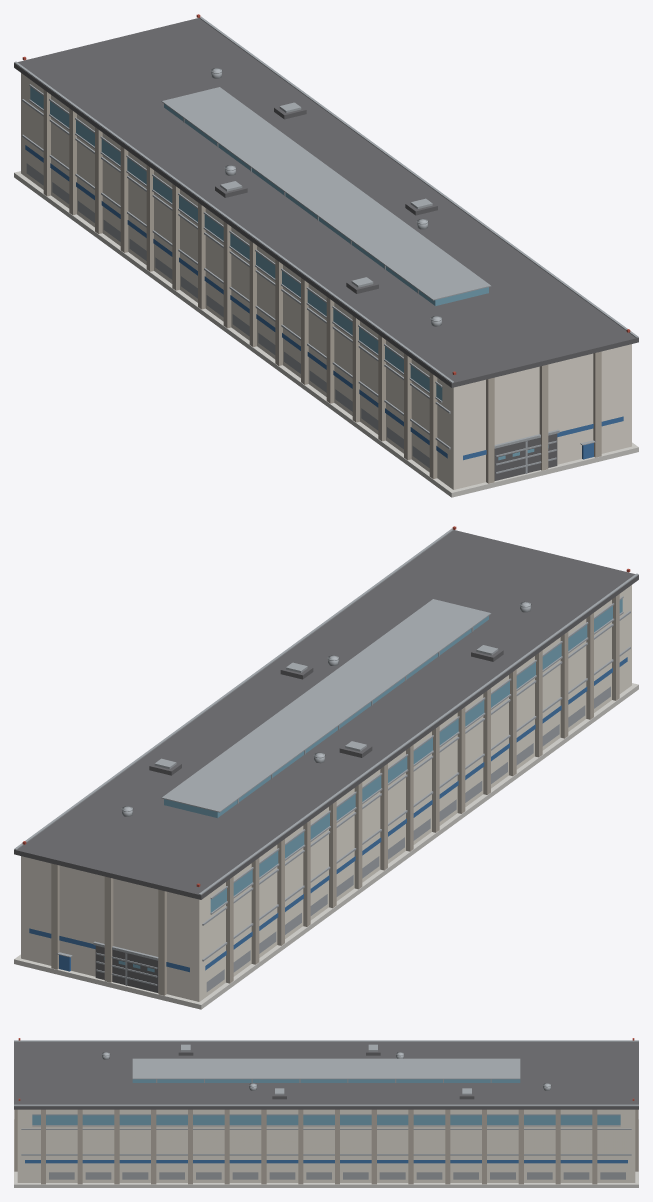
Rendered from turbine_hall_long.glb.
3 renders of one model, top to bottom at view 1: azimuth 30°, elevation 25°; view 2: azimuth 150°, elevation 25°; view 3: azimuth 270°, elevation 25°, orthographic. The views are drawn at different scales.
Parts seen in each view (by area): view 1: Merged_RoofDark, turbine_hall, Merged_PropsMetal, Merged_FacadeAccent, Merged_FacadeGlass, turbine_plinth, Merged_CityAccentBlue; view 2: Merged_RoofDark, turbine_hall, Merged_PropsMetal, Merged_FacadeAccent, Merged_FacadeGlass, turbine_plinth, Merged_CityAccentBlue; view 3: Merged_RoofDark, turbine_hall, Merged_PropsMetal, Merged_FacadeAccent, Merged_FacadeGlass, turbine_plinth, Merged_CityAccentBlue.
Part boxes in pixels (x1=…): Merged_RoofDark: x1=14, y1=18, x2=638, y2=480; turbine_hall: x1=21, y1=73, x2=631, y2=489; Merged_PropsMetal: x1=14, y1=16, x2=638, y2=473; Merged_FacadeAccent: x1=43, y1=90, x2=601, y2=483; Merged_FacadeGlass: x1=30, y1=87, x2=548, y2=460; turbine_plinth: x1=14, y1=171, x2=638, y2=497; Merged_CityAccentBlue: x1=25, y1=145, x2=623, y2=460; Merged_RoofDark: x1=14, y1=530, x2=638, y2=992; turbine_hall: x1=21, y1=585, x2=631, y2=1001; Merged_PropsMetal: x1=14, y1=528, x2=638, y2=991; Merged_FacadeAccent: x1=51, y1=594, x2=619, y2=995; Merged_FacadeGlass: x1=104, y1=599, x2=622, y2=972; turbine_plinth: x1=14, y1=683, x2=638, y2=1009; Merged_CityAccentBlue: x1=29, y1=657, x2=627, y2=972; Merged_RoofDark: x1=14, y1=1042, x2=638, y2=1109; turbine_hall: x1=17, y1=1109, x2=635, y2=1182; Merged_PropsMetal: x1=14, y1=1040, x2=638, y2=1179; Merged_FacadeAccent: x1=14, y1=1109, x2=638, y2=1184; Merged_FacadeGlass: x1=32, y1=1079, x2=620, y2=1124; turbine_plinth: x1=14, y1=1119, x2=638, y2=1187; Merged_CityAccentBlue: x1=25, y1=1160, x2=627, y2=1163.
Size of the model in its own units: 42 by 26 by 170.
